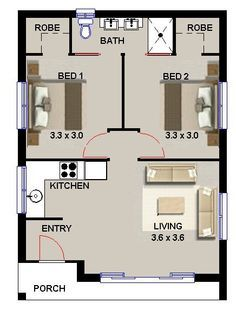wall: (95, 11, 224, 17), (17, 10, 26, 81), (219, 10, 227, 80), (219, 129, 227, 192), (219, 240, 227, 302), (19, 10, 74, 17), (18, 214, 26, 262), (138, 157, 220, 161), (18, 128, 26, 165), (25, 157, 110, 160), (121, 52, 124, 127), (196, 274, 220, 282), (69, 10, 73, 54), (172, 11, 176, 55), (76, 260, 84, 280), (79, 274, 99, 282), (25, 217, 63, 220), (108, 127, 140, 130), (25, 52, 43, 56), (202, 52, 220, 55)
